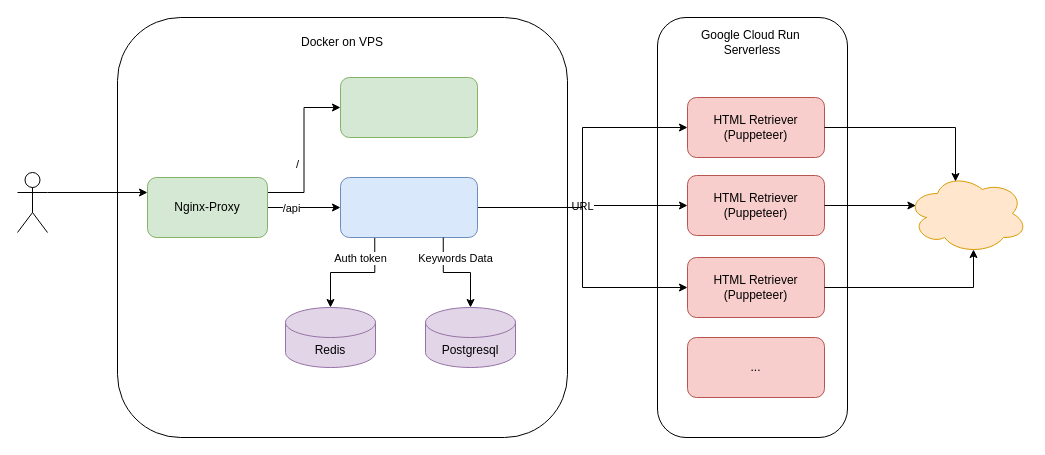
Some shapes in this 1045 by 455 pixel diagram are drawn without their labels. The centre of each missing label's shape, as x and y in pixels:
API: (409,207)
Google Search: (967,213)
User: (32,202)
Web (Static serve by NGINX): (409,107)
